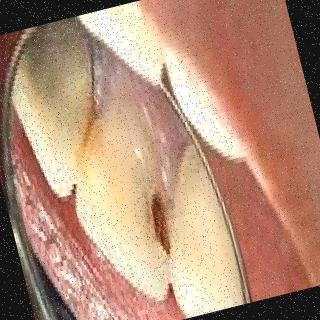cavities: (114, 161, 180, 274)
